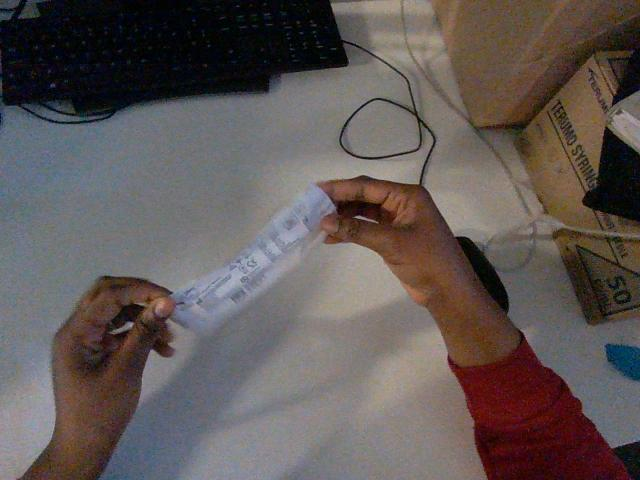syringe: (171, 184, 334, 331)
